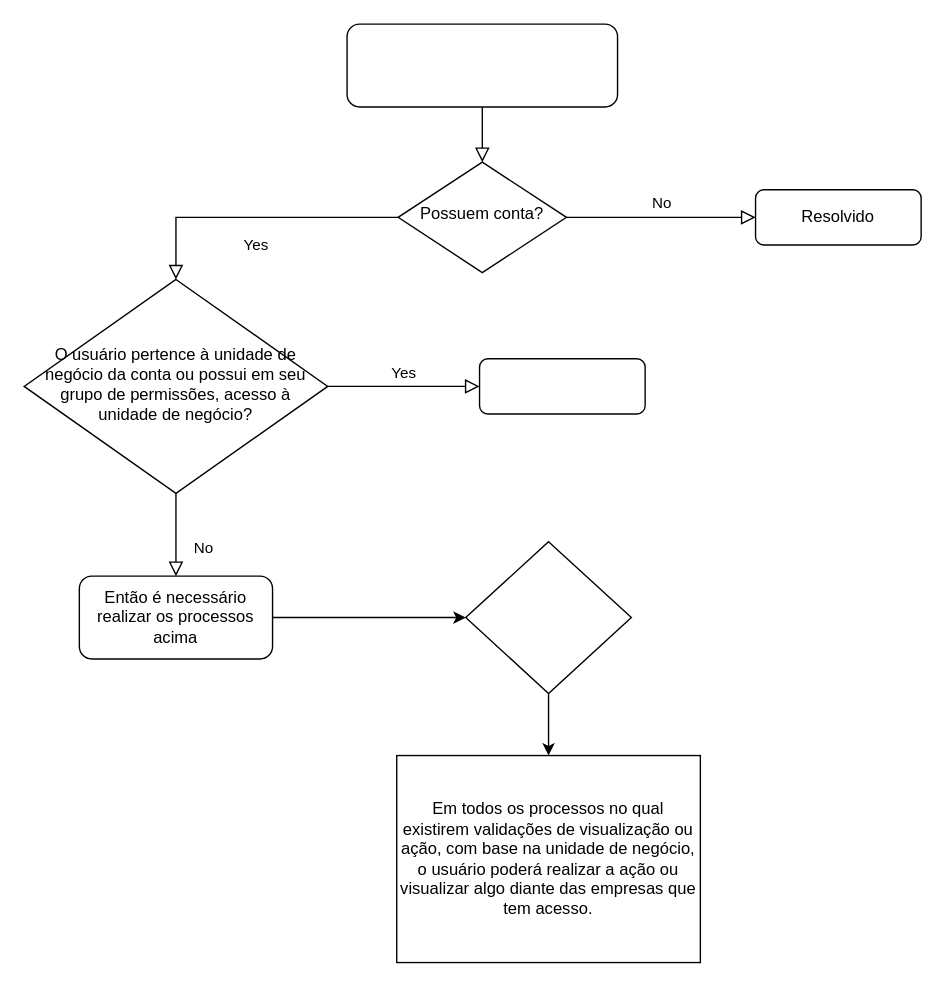
This 945x987 diagram has some shape labels left out. Here are the shapes that lost their labels. From the top down, the box of each, then its label:
(346, 23, 618, 107): Usuário não consegue visualizar contas na tela da Swap
(478, 357, 645, 414): Um possível bug - Analisar
(464, 540, 631, 693): Quais são os impactos?
